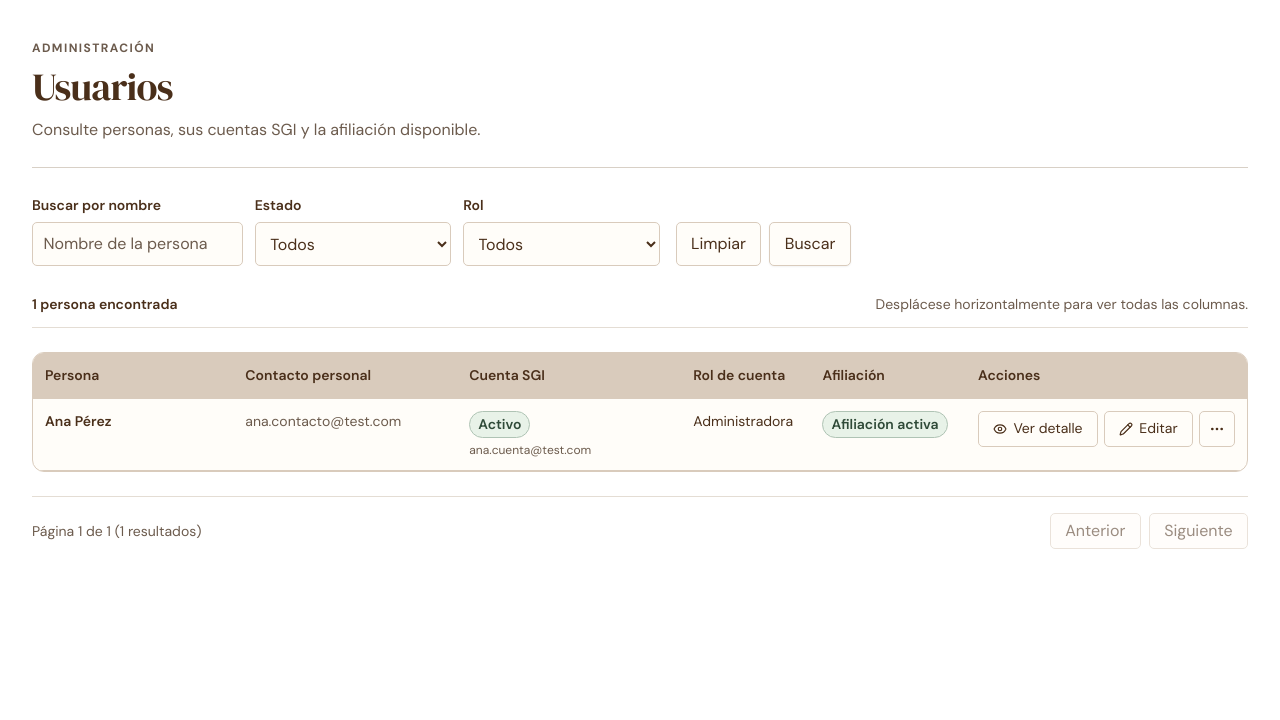
UsersPage › uses numeric access ID for eligible profile edits and invalidates Person-root users cache
The image size is (1280, 720).
expect the text "Ana Pérez" is shown: met, box top-left (33, 398), bottom-right (233, 471)
Click the button "Editar": (1148,428) top-left (1104, 410), bottom-right (1193, 446)
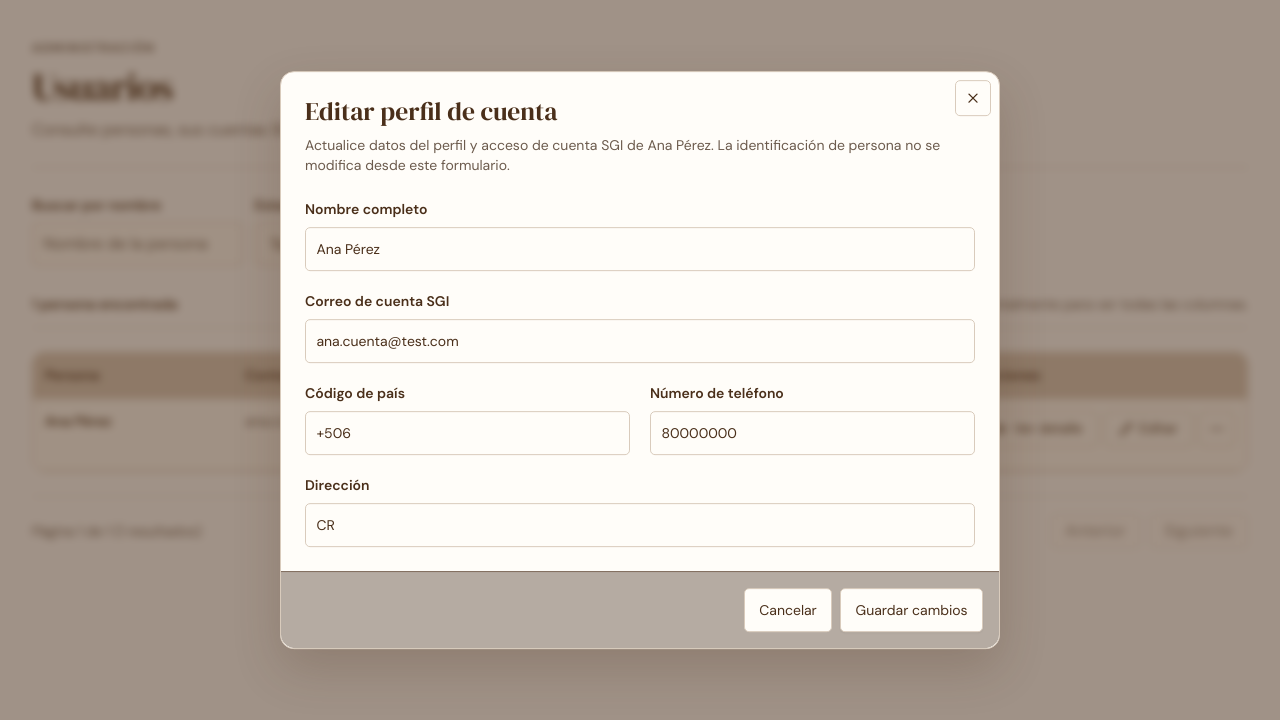
Replace the text in the field labelled "Correo de cuenta SGI" with "ana.nueva@test.com": (640,341) top-left (305, 319), bottom-right (975, 363)
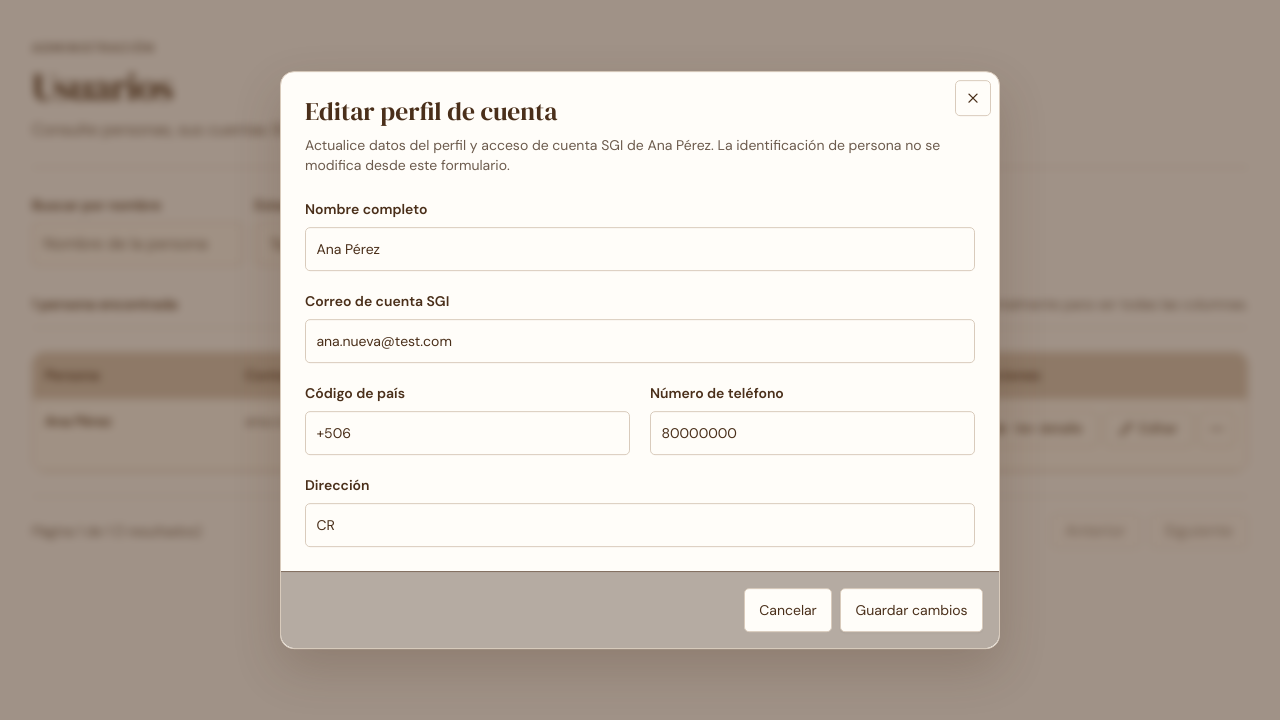
Click the button "Guardar cambios": (912,610) top-left (840, 588), bottom-right (983, 632)
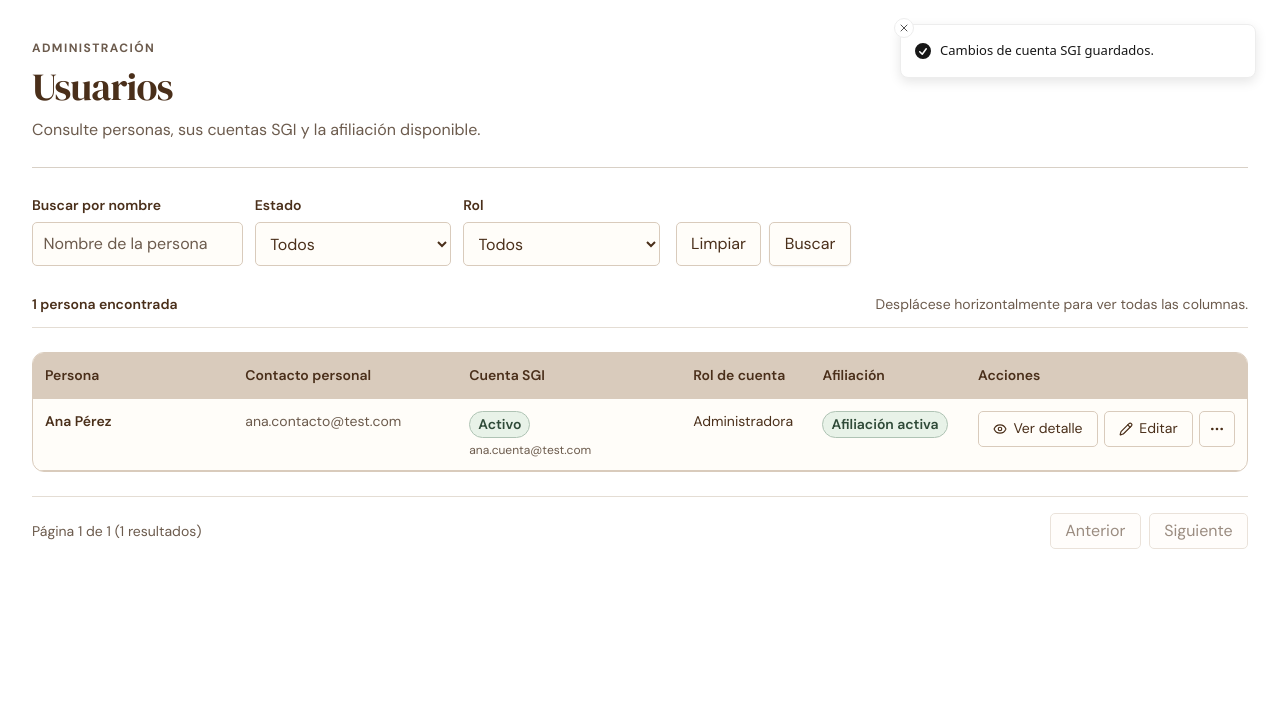
expect the text "Cambios de cuenta SGI guardados." is shown: met, box top-left (940, 41), bottom-right (1154, 60)
